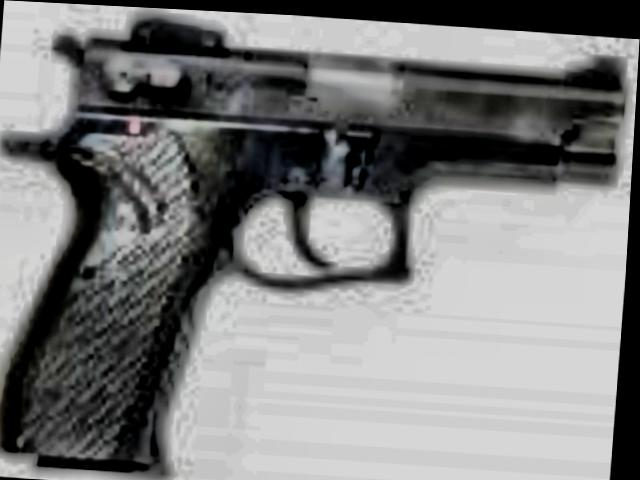pistol: (0, 2, 632, 480)
